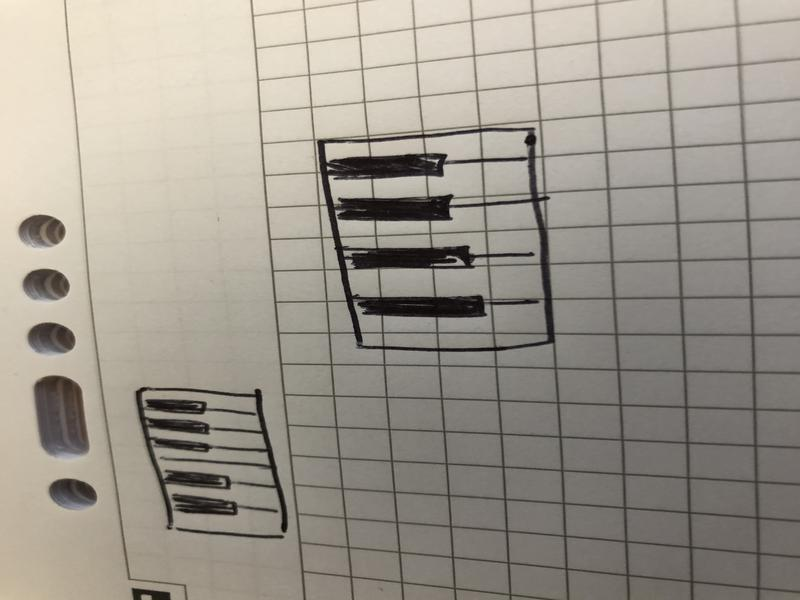piano: (314, 130, 562, 355), (128, 381, 288, 544)
